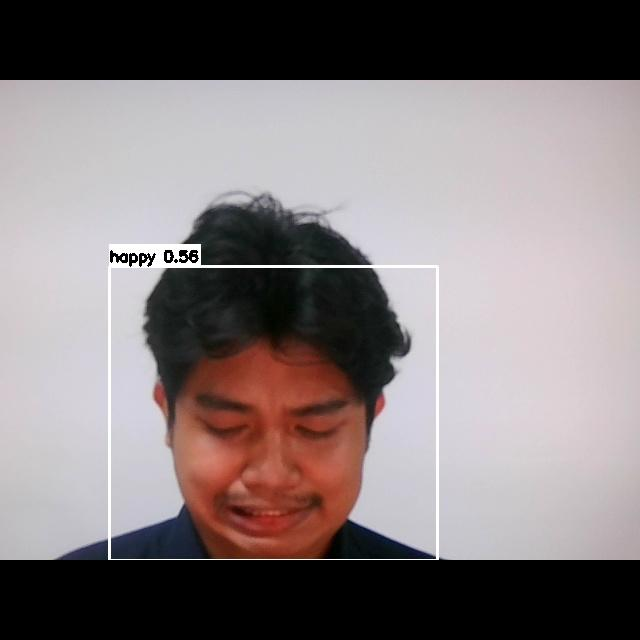Disgust: (167, 370, 369, 541)
